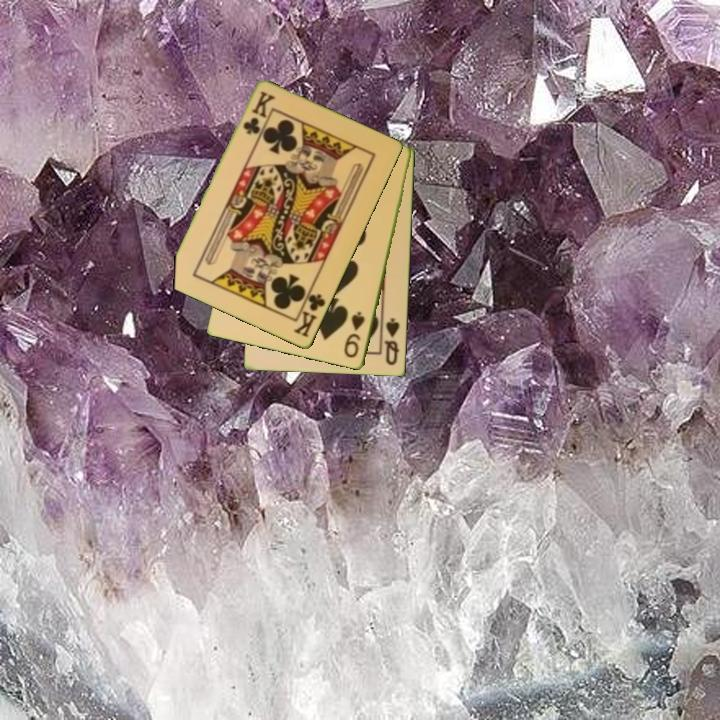9s: (340, 308, 368, 361)
Kc: (290, 285, 328, 341), (240, 88, 277, 138)
Qs: (381, 315, 403, 368)
